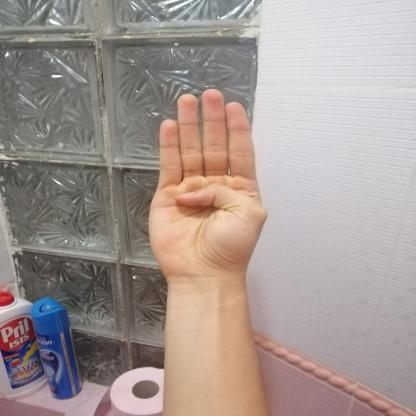KAAF: (132, 80, 280, 291)
